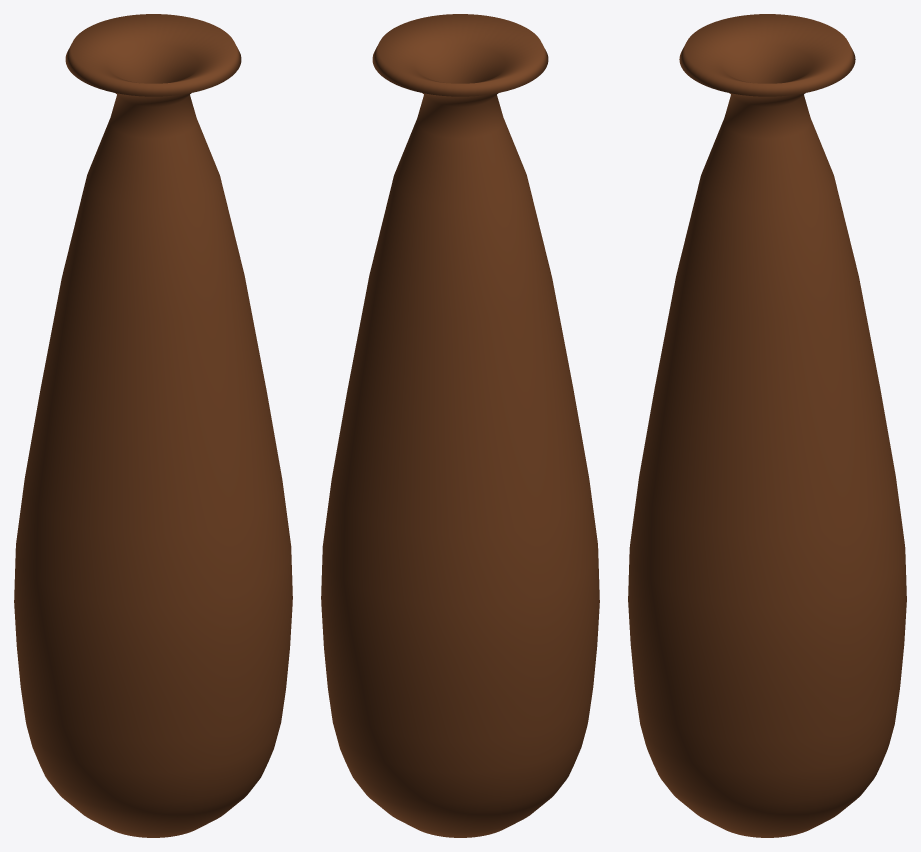
Rendered from MediumVase.fbx.
3 renders of one model, left to right at view 1: azimuth 30°, elevation 25°; view 2: azimuth 150°, elevation 25°; view 3: azimuth 270°, elevation 25°, orthographic.
Parts seen in each view (by area): view 1: Sphere; view 2: Sphere; view 3: Sphere.
Part boxes in pixels (bbox=[...]): Sphere: bbox=[14, 14, 292, 837]; Sphere: bbox=[321, 14, 599, 837]; Sphere: bbox=[628, 14, 906, 837].
Bounding box in the file's own units: 86.19 × 264 × 86.19.
